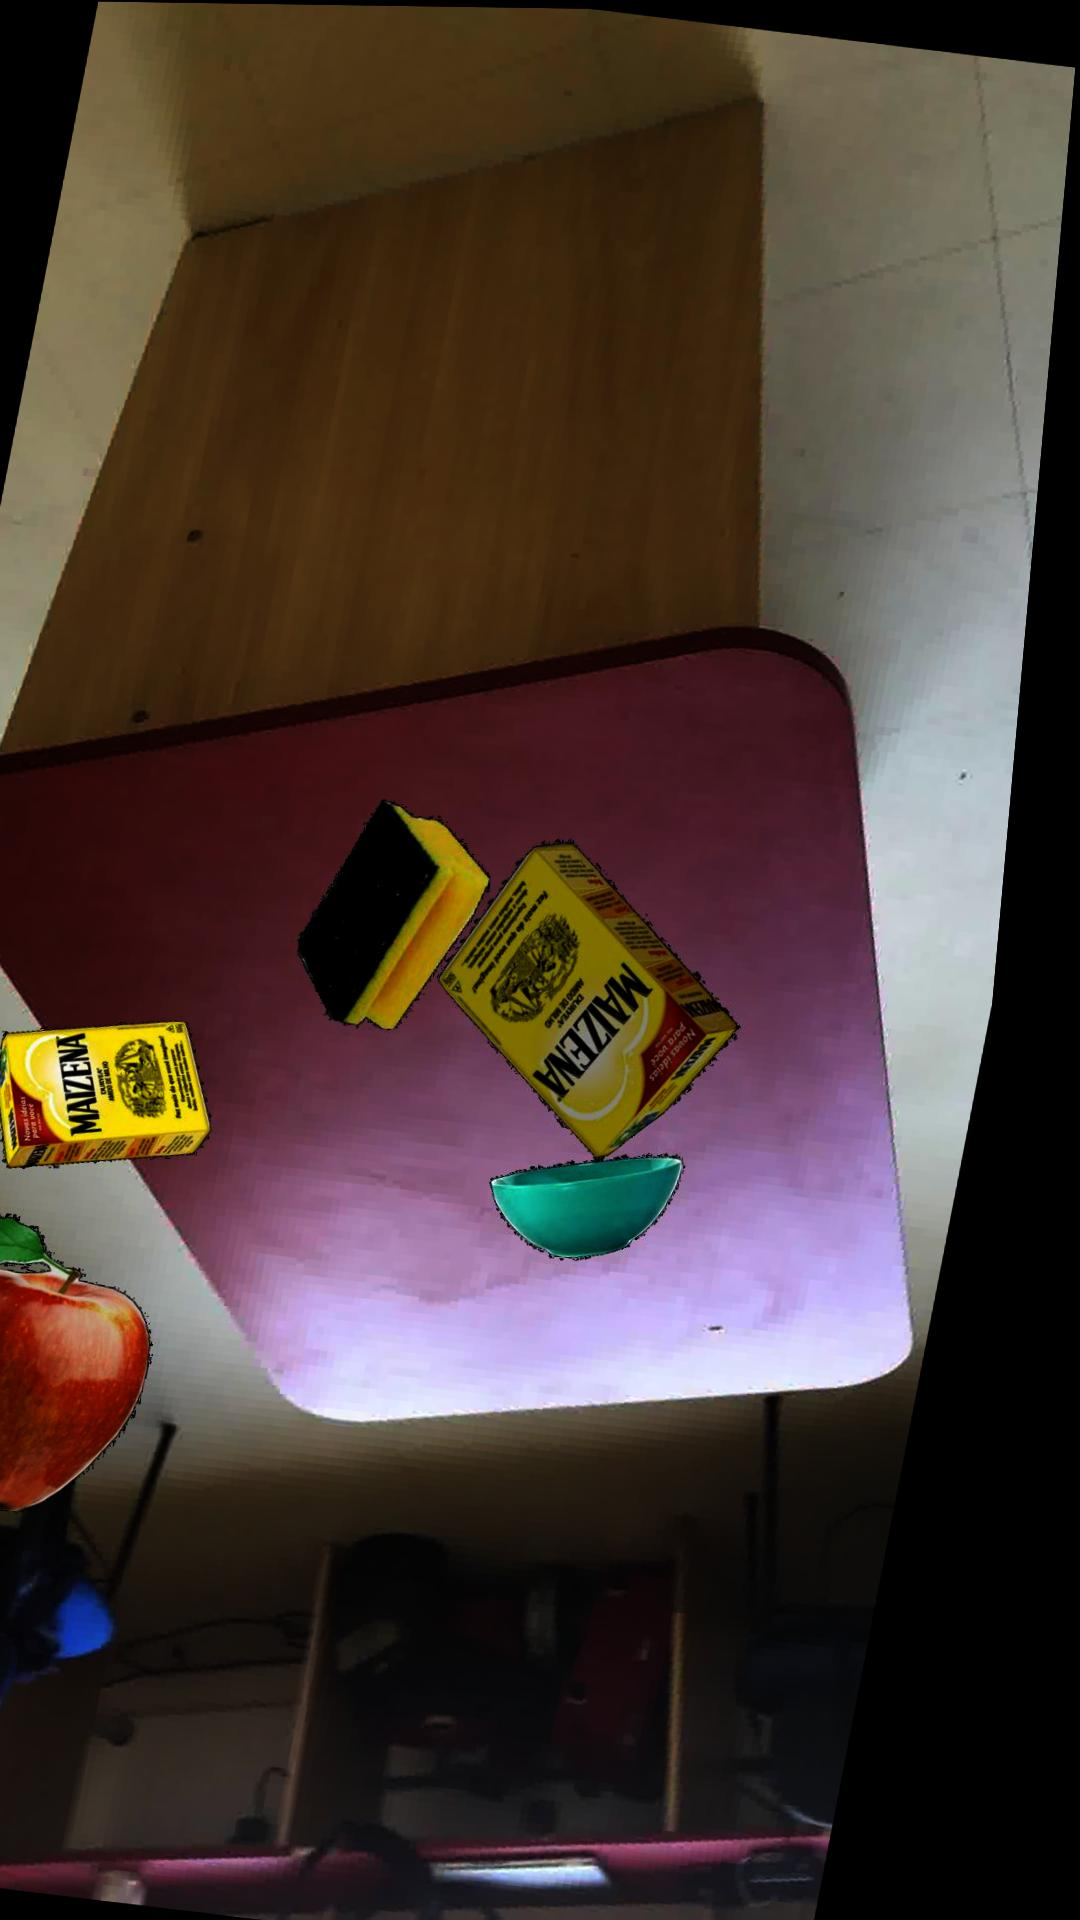apple: (0, 1215, 177, 1514)
bowl: (510, 1154, 703, 1258)
sponge: (314, 800, 505, 1030)
